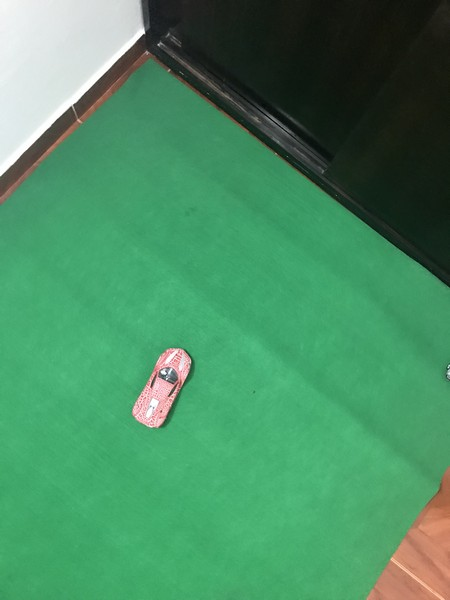RC: (129, 345, 193, 429)
